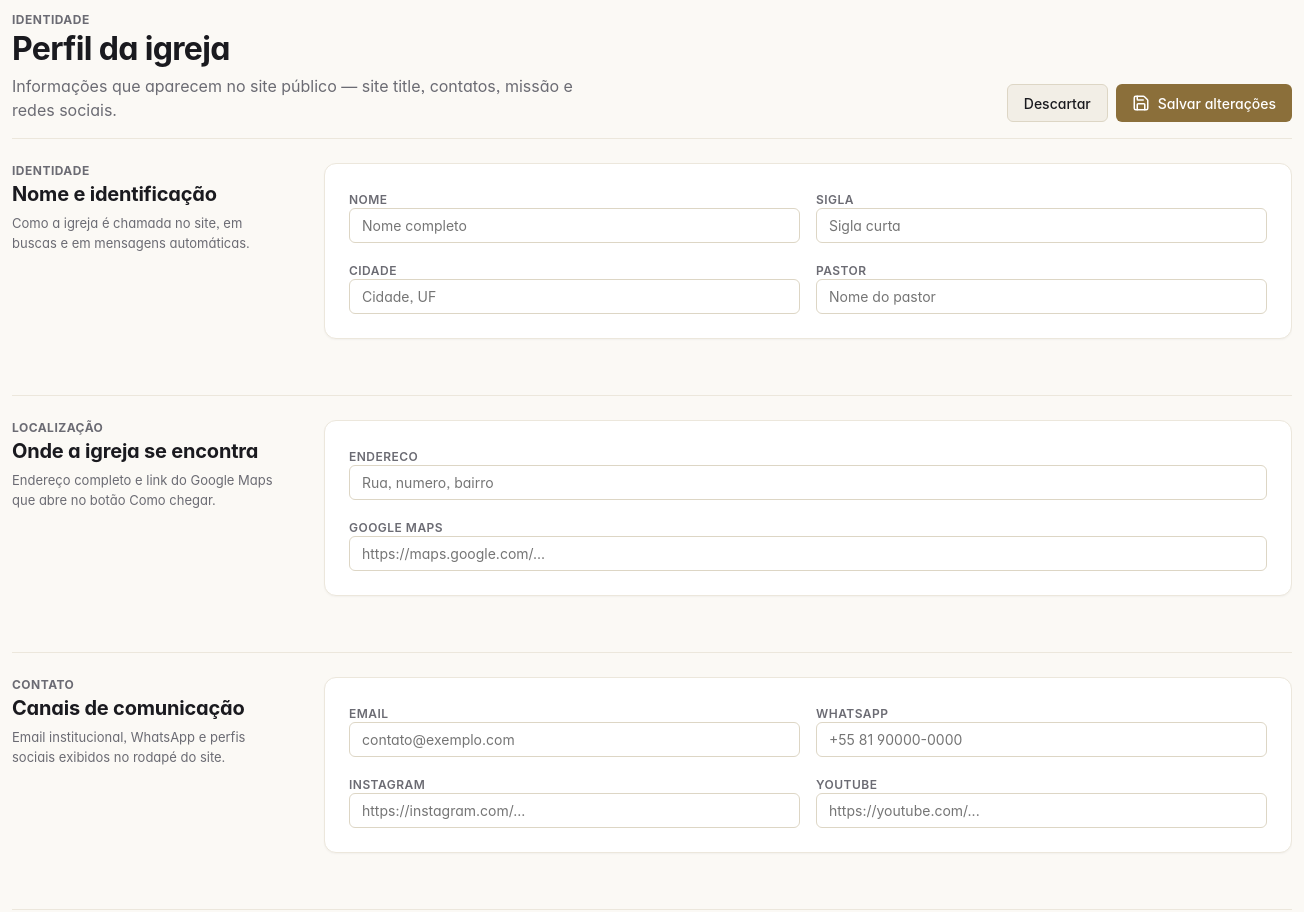
Test: ProfileView › submits profile form with required fields via header primary action
Type "Igreja" into the field labelled "Nome" at (574, 226), box [349,208,800,243]
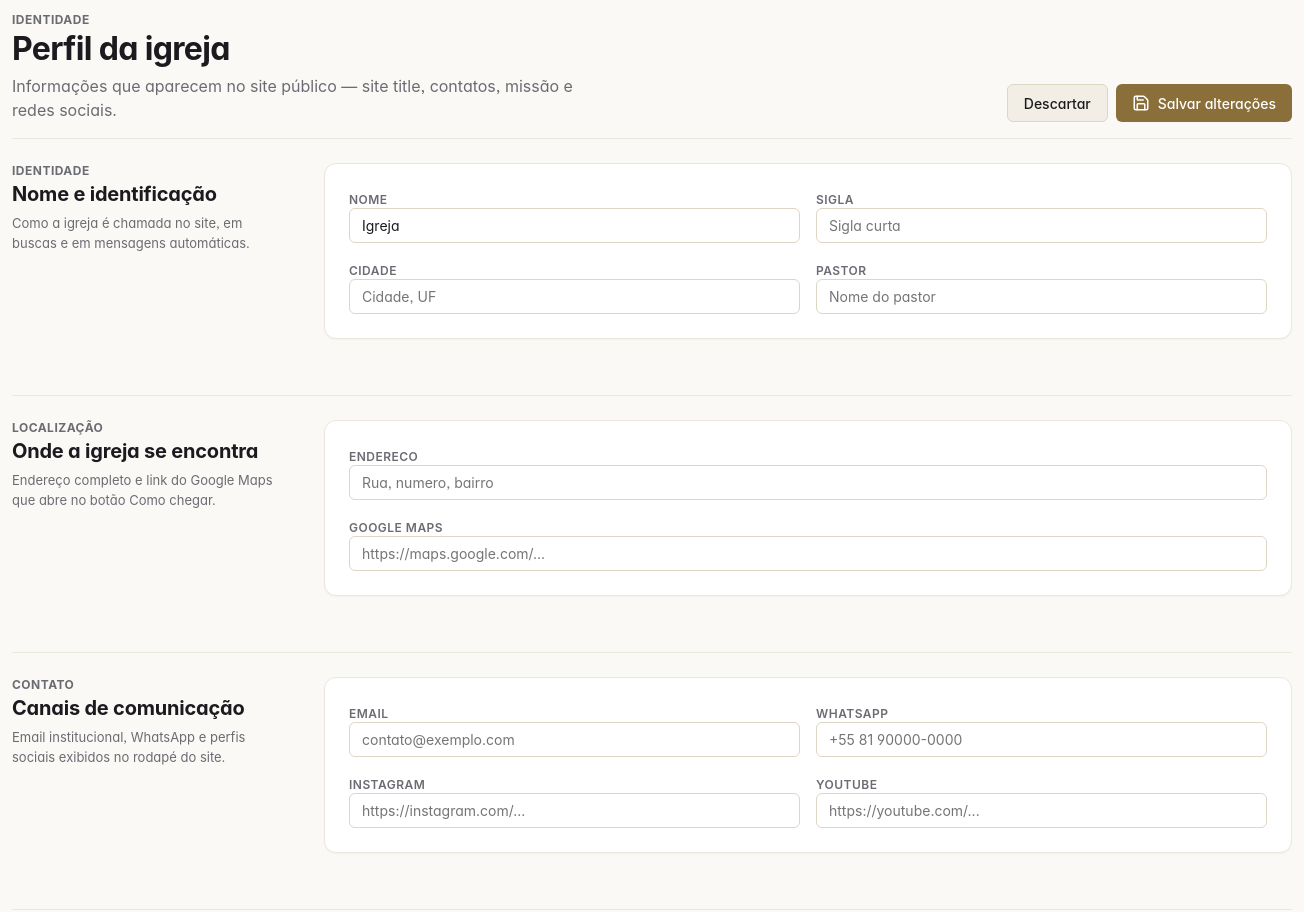
Type "IGR" into the field labelled "Sigla" at (1042, 226), box [816,208,1267,243]
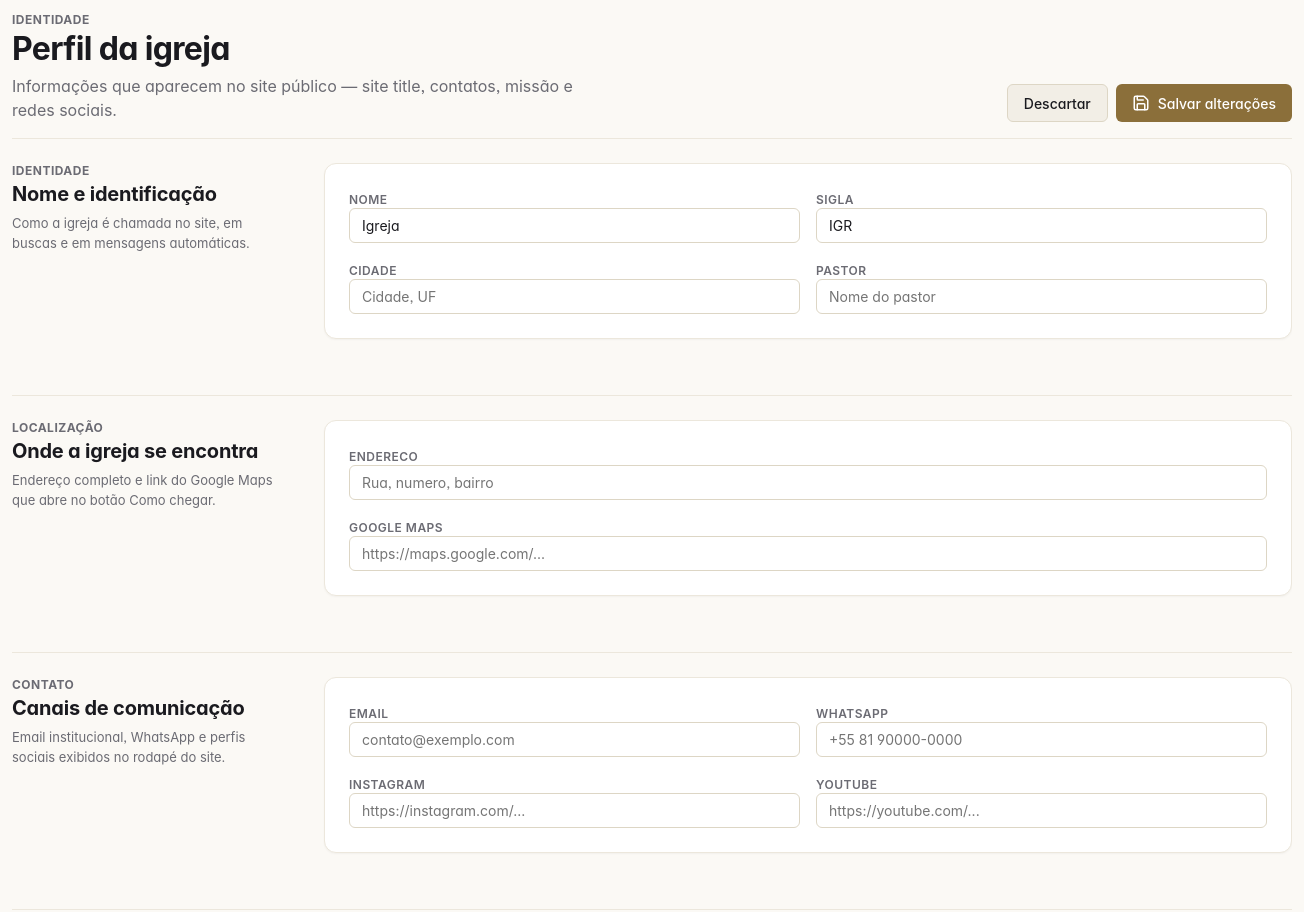
Click the button "Salvar alterações" at (1204, 103), box [1116,84,1292,122]
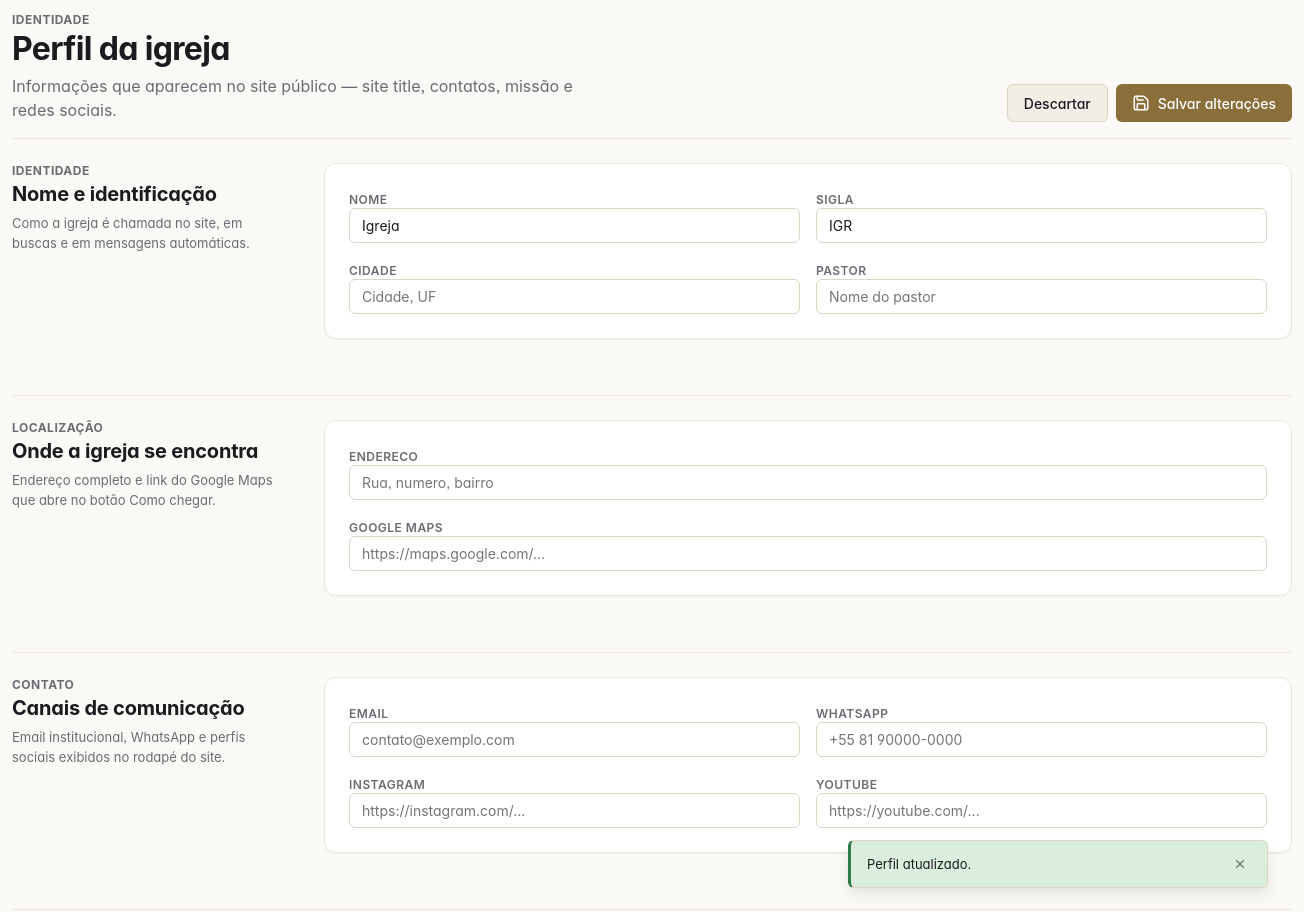
Result: the text "Perfil atualizado." is shown at [867,856,971,872]
